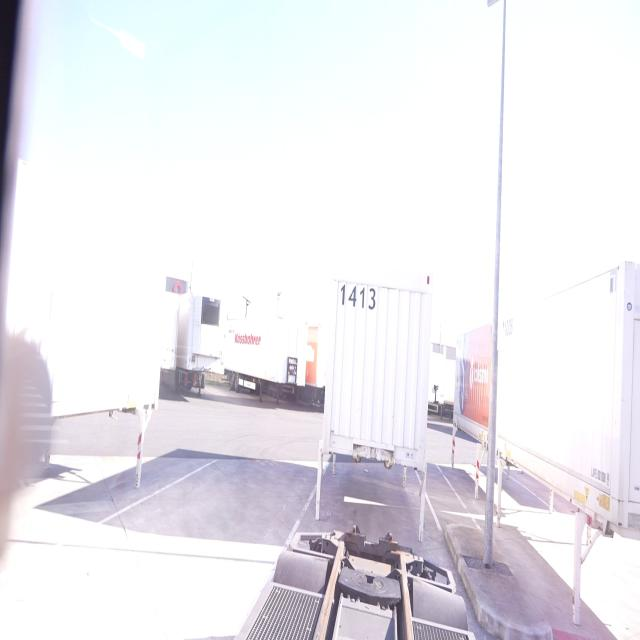Code: (338, 274, 379, 314)
